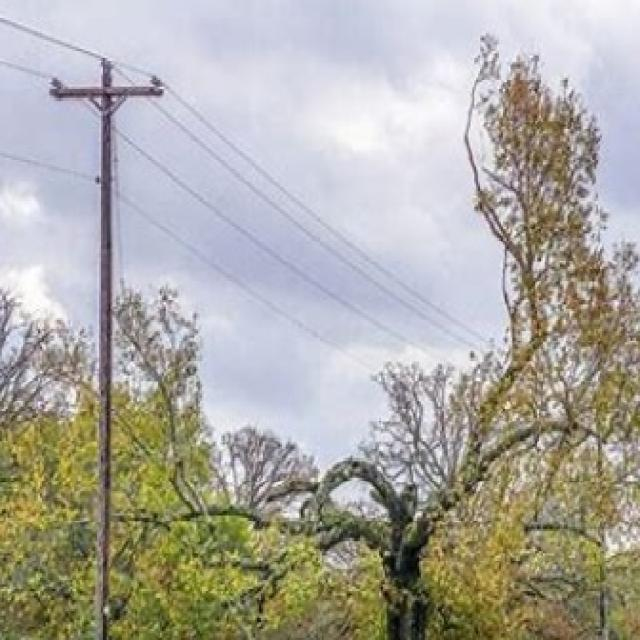utility poles: (55, 33, 159, 625)
